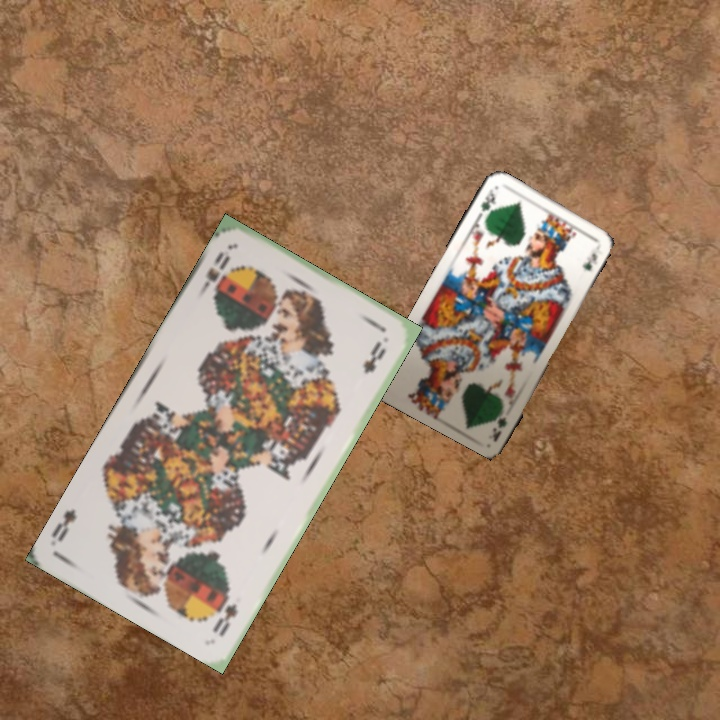GK: (473, 184, 498, 221), (488, 413, 510, 444)
SO: (195, 247, 233, 297), (208, 599, 241, 640)
